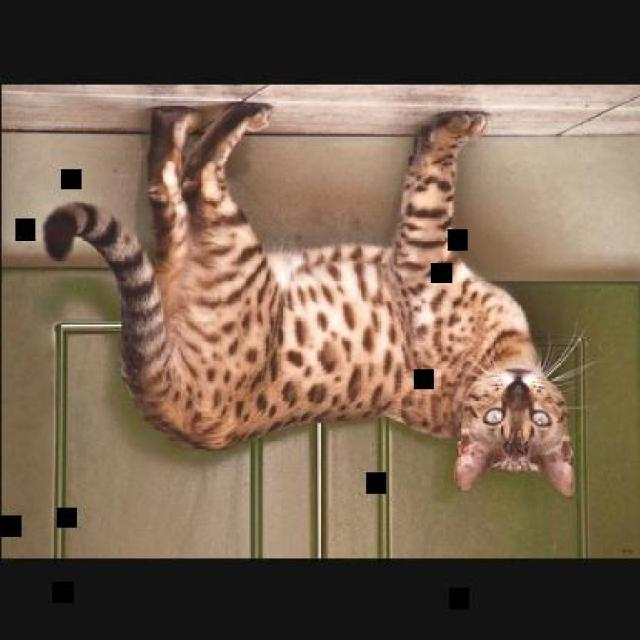unauthorized: (43, 94, 595, 497)
